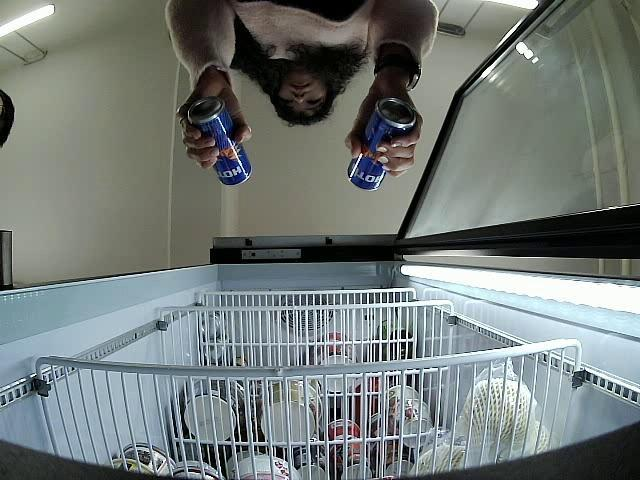16_hot6: (346, 98, 416, 192), (188, 98, 254, 186)
